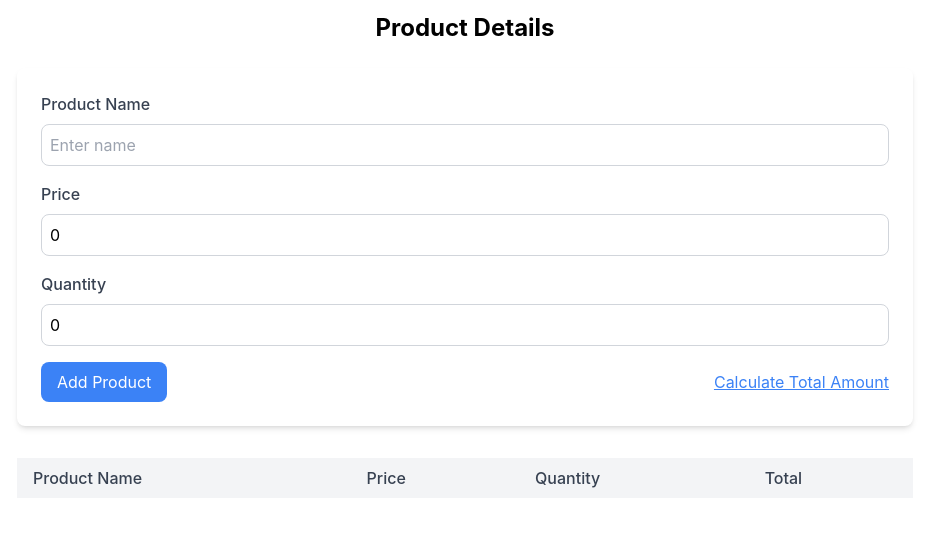
Products Component › clears total amount when a new product is added
The image size is (931, 555).
Type "Laptop" into the field with placeholder "Enter name" at (465, 145), box x1=41 y1=124 x2=889 y2=166
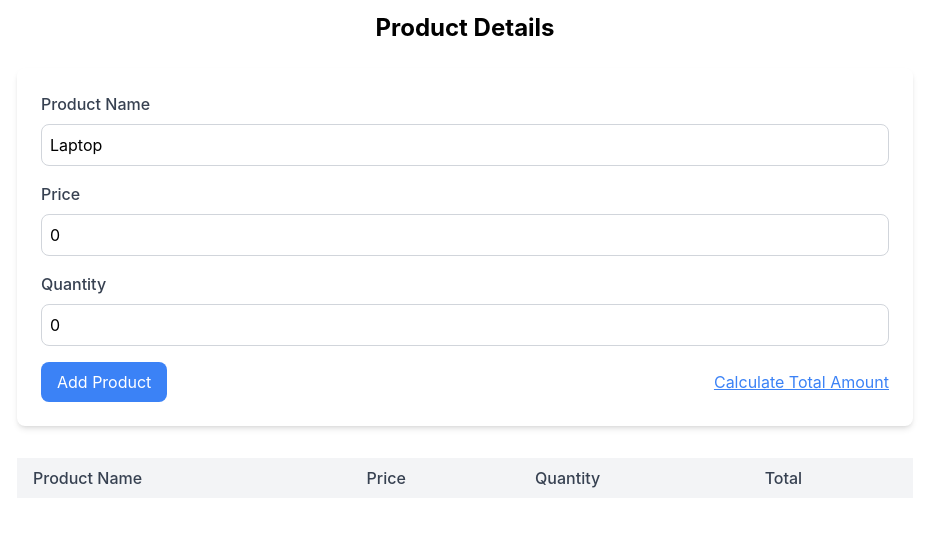
Replace the text in the 1st number field with placeholder "Enter price" with "1000" at (465, 235), box x1=41 y1=214 x2=889 y2=256
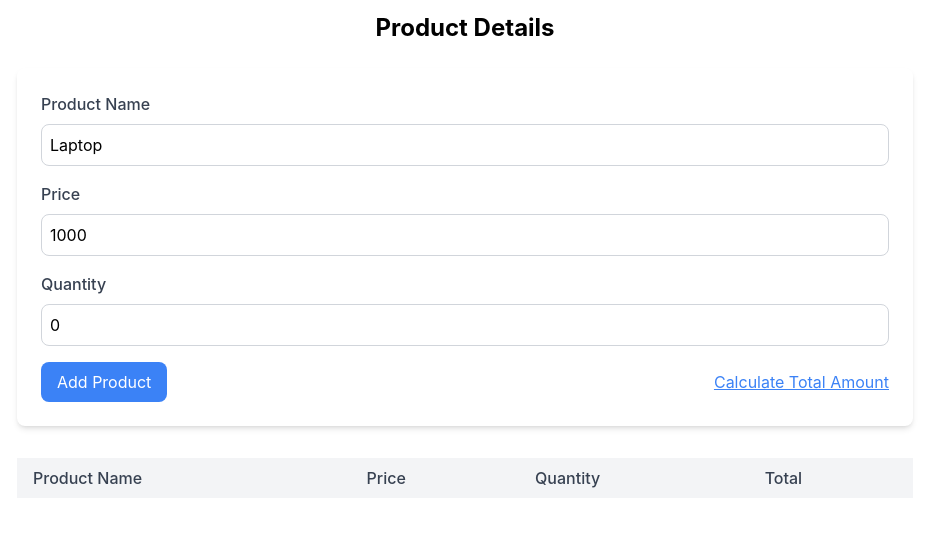
Replace the text in the 2nd number field with placeholder "Enter quantity" with "2" at (465, 325), box x1=41 y1=304 x2=889 y2=346
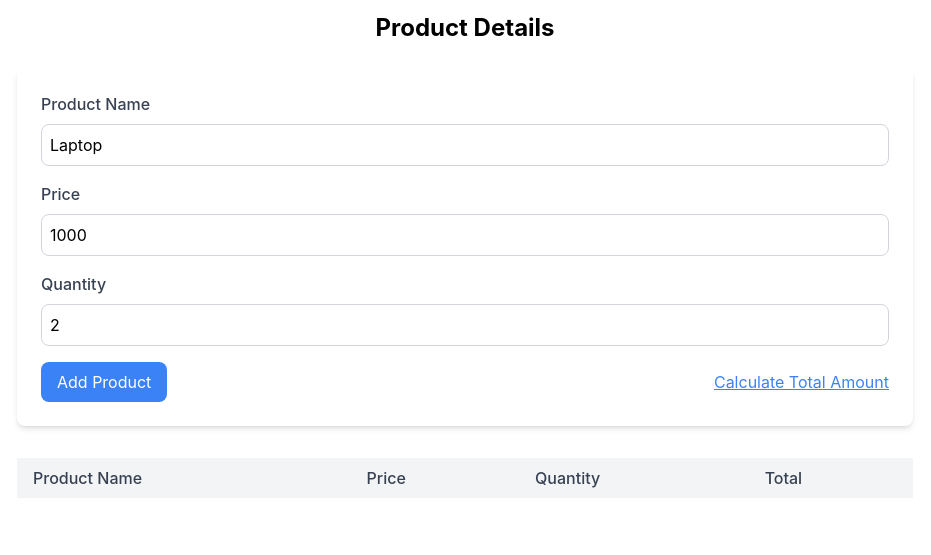
Click the link "Calculate Total Amount" at (801, 382), box x1=714 y1=370 x2=889 y2=394
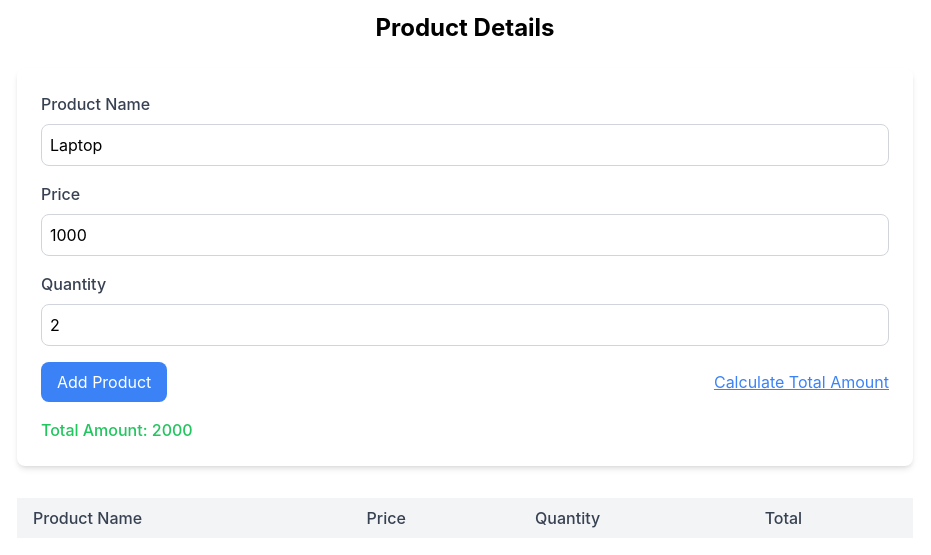
Expected: the text "Total Amount: 2000" is shown, x1=41 y1=420 x2=193 y2=440
Click the button "Add Product" at (104, 382), box x1=41 y1=362 x2=167 y2=402
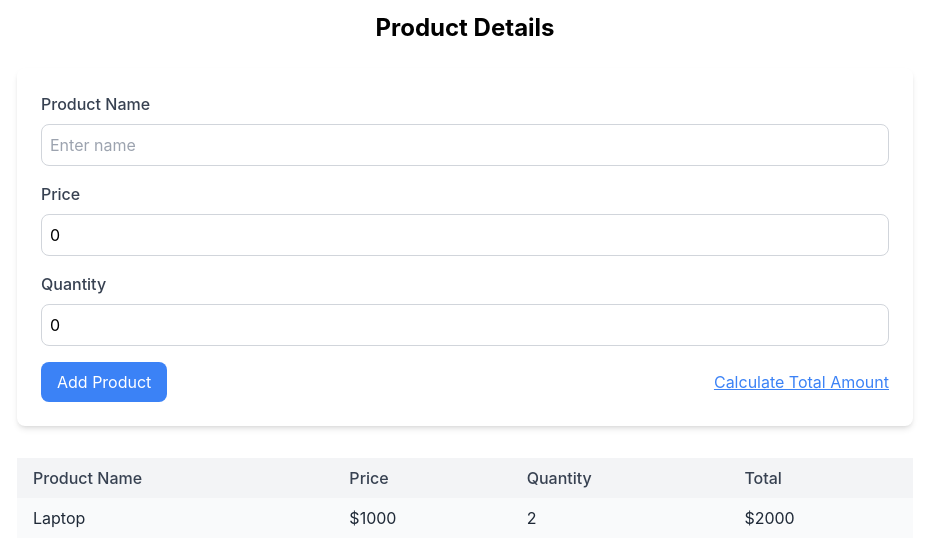
Expected: the text "Total Amount: 2000" is gone
